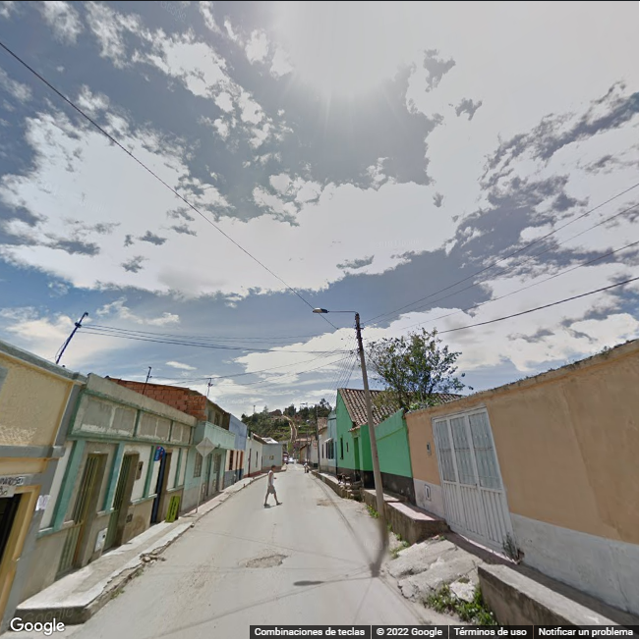D40: (239, 552, 292, 572)
